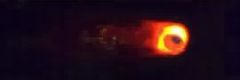keyhole: (169, 30, 184, 46)
